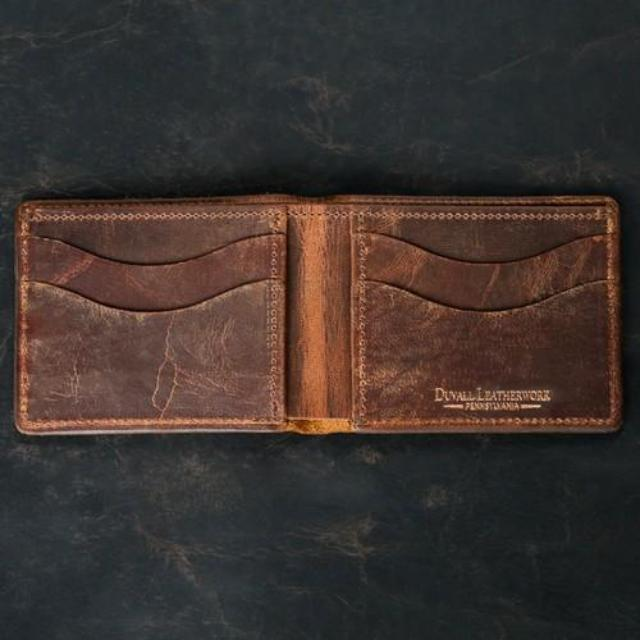wallet: (11, 190, 626, 440)
